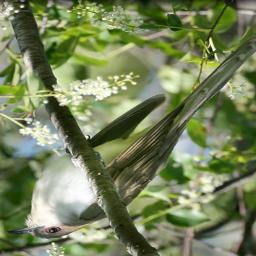Cuckoo: (4, 28, 256, 241)
